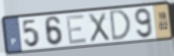5: (23, 18, 42, 49)
6: (44, 15, 64, 47)
9: (133, 7, 153, 39)
D: (109, 8, 133, 43)
E: (64, 13, 88, 46)
X: (87, 11, 111, 44)
